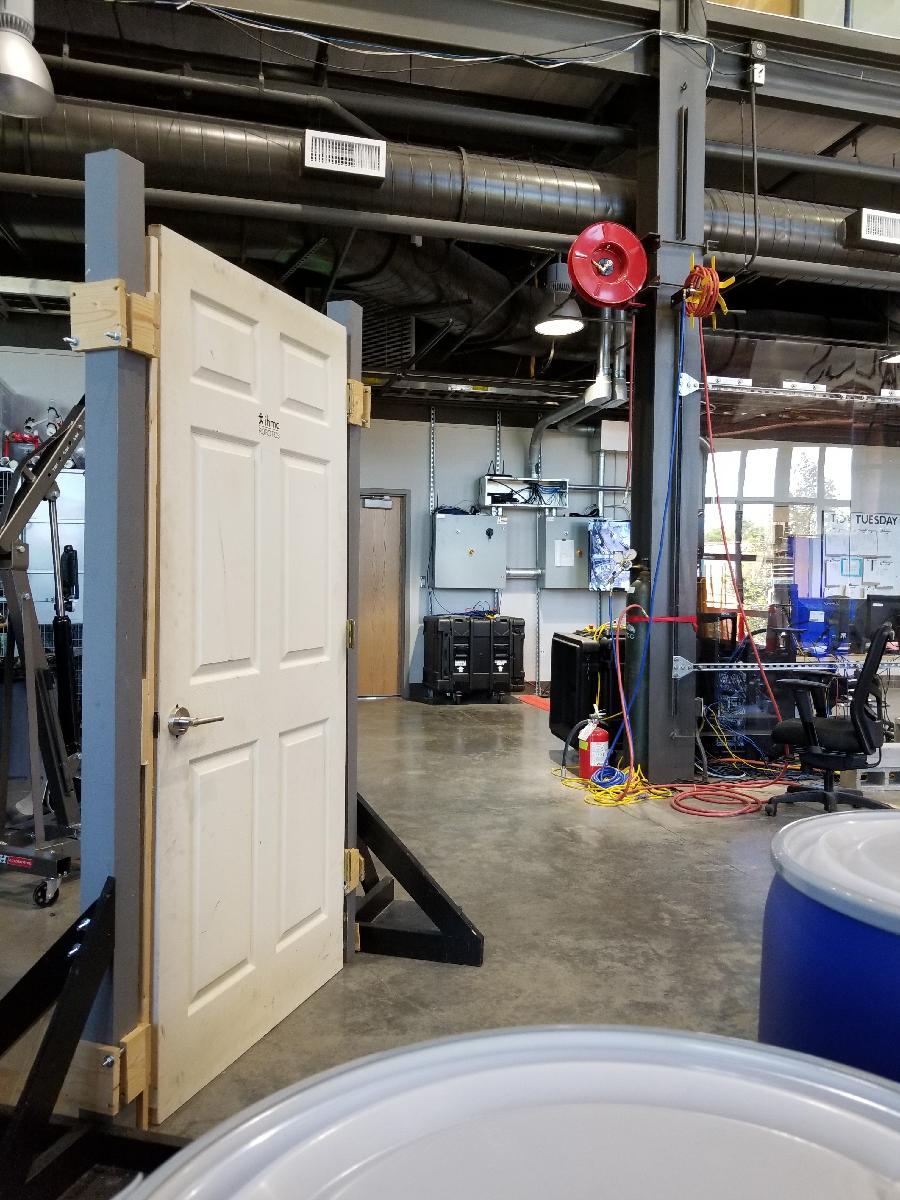door: (148, 225, 356, 1133)
doorHandle: (168, 705, 233, 737)
